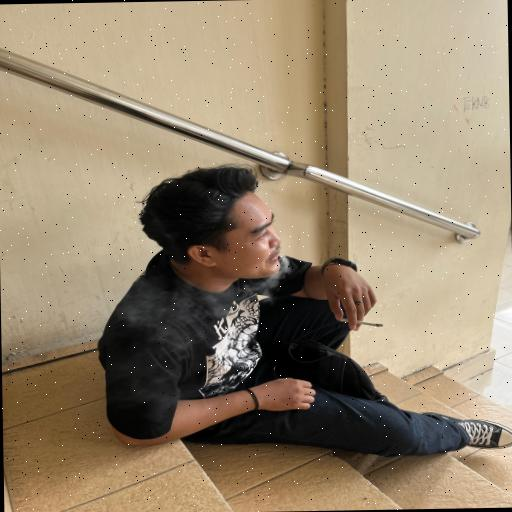asap rokok: (230, 224, 301, 300)
pegang rokok: (314, 266, 388, 345)
